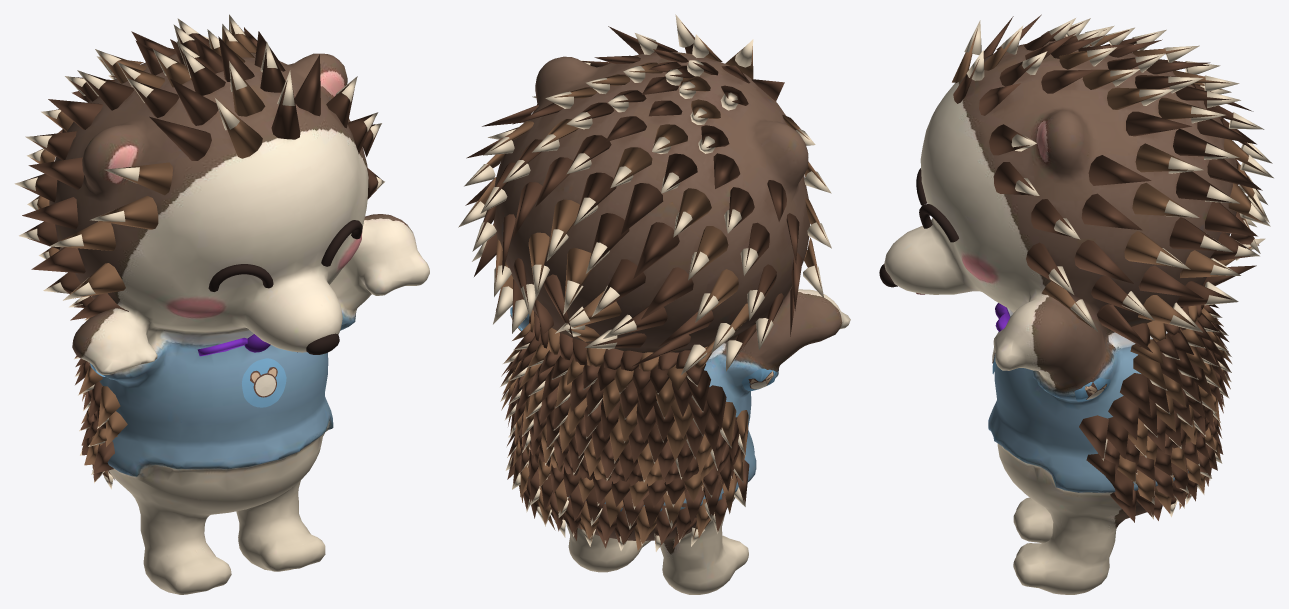
The model's file is hedgehog-pose.glb.
The picture shows the model from 3 angles, left to right: view 1: azimuth 30°, elevation 25°; view 2: azimuth 150°, elevation 25°; view 3: azimuth 270°, elevation 25°; orthographic projection.
Visible parts, largest first — view 1: chibi, face; view 2: face, chibi; view 3: chibi, face.
Part boxes in pixels (bbox=[...]): chibi: bbox=[49, 52, 429, 594]; face: bbox=[14, 14, 384, 489]; face: bbox=[458, 14, 831, 551]; chibi: bbox=[494, 52, 850, 594]; chibi: bbox=[884, 31, 1238, 594]; face: bbox=[879, 14, 1273, 522].
Size of the model in its own units: 0.8545 by 1.25 by 0.8424.
33 materials, 1 textured.
